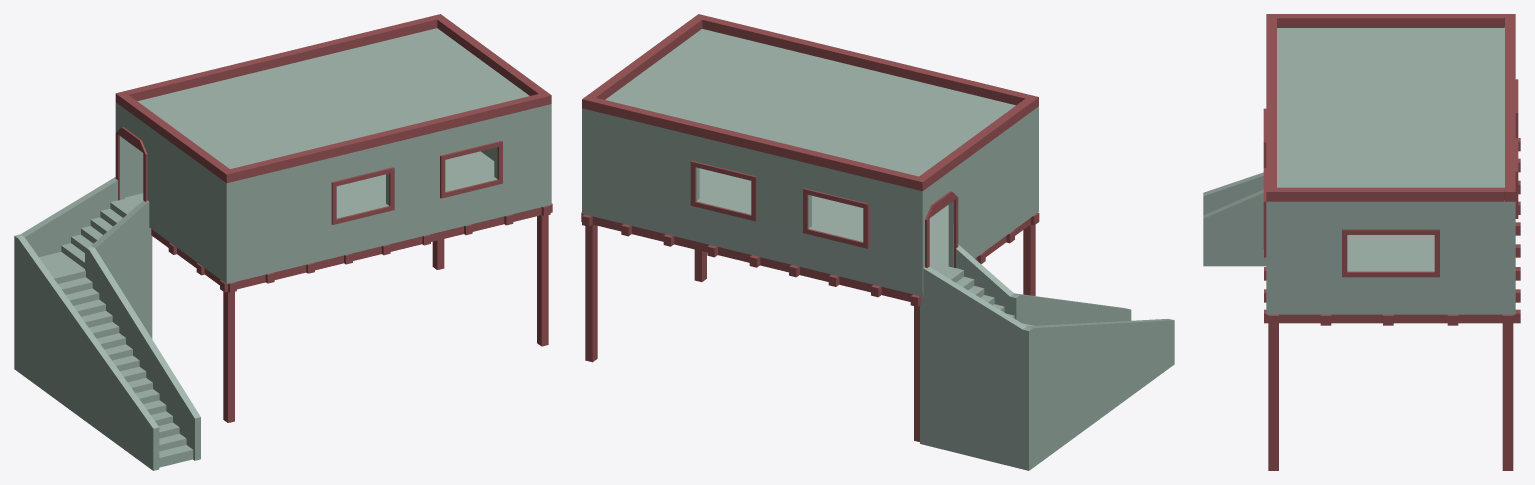
Rendered from house3.fbx.
3 renders of one model, left to right at view 1: azimuth 30°, elevation 25°; view 2: azimuth 150°, elevation 25°; view 3: azimuth 270°, elevation 25°, orthographic. The views are drawn at different scales.
Parts seen in each view (by area): view 1: polySurface64; view 2: polySurface64; view 3: polySurface64.
Boxes of the visible parts, box(x1,y1,x2,y2) form: polySurface64: box(14, 14, 552, 470); polySurface64: box(581, 14, 1174, 470); polySurface64: box(1203, 14, 1520, 470).
Size of the model in its own units: 1564 by 875 by 894.
